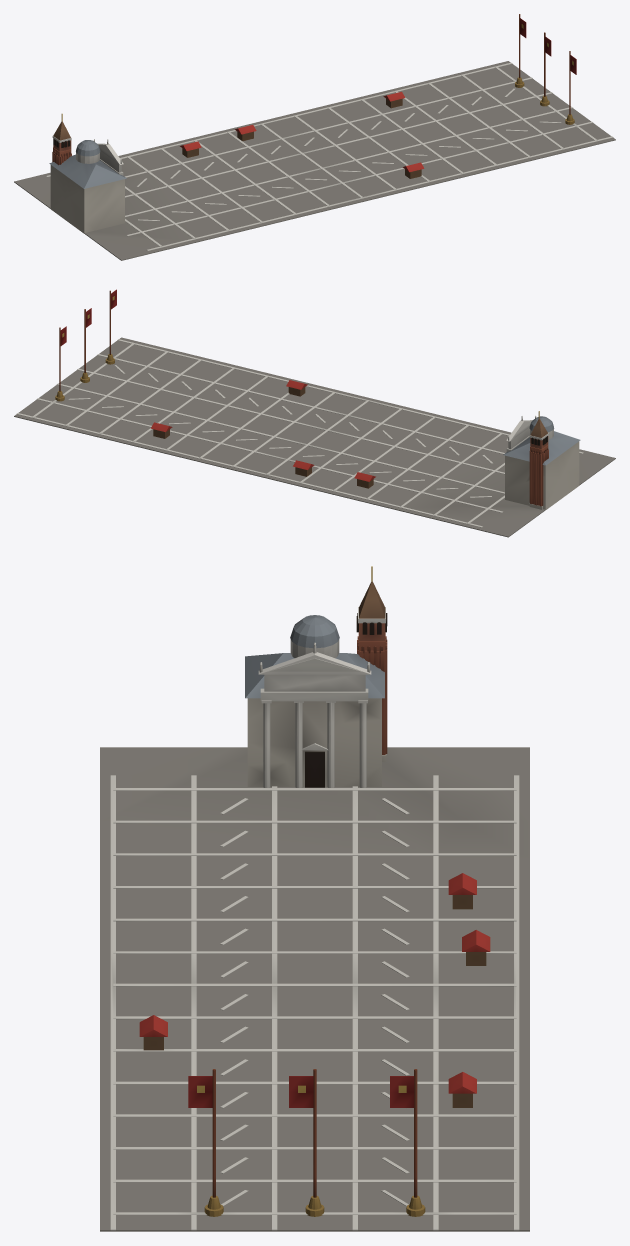
File: piazza.glb
3 views of the same model, one above another, from view 1: azimuth 30°, elevation 25°; view 2: azimuth 150°, elevation 25°; view 3: azimuth 270°, elevation 25° (orthographic). The views are drawn at different scales.
Visible parts, largest first — view 1: p0_paving, p1_buildings; view 2: p0_paving, p1_buildings; view 3: p0_paving, p1_buildings.
Boxes of the visible parts, <box> form: p0_paving: <box>14,61,615,260</box>; p1_buildings: <box>49,14,576,233</box>; p0_paving: <box>14,337,615,537</box>; p1_buildings: <box>55,289,580,510</box>; p0_paving: <box>100,747,529,1231</box>; p1_buildings: <box>139,566,490,1216</box>.
Bounding box in the file's own units: 170 × 31.37 × 64.
